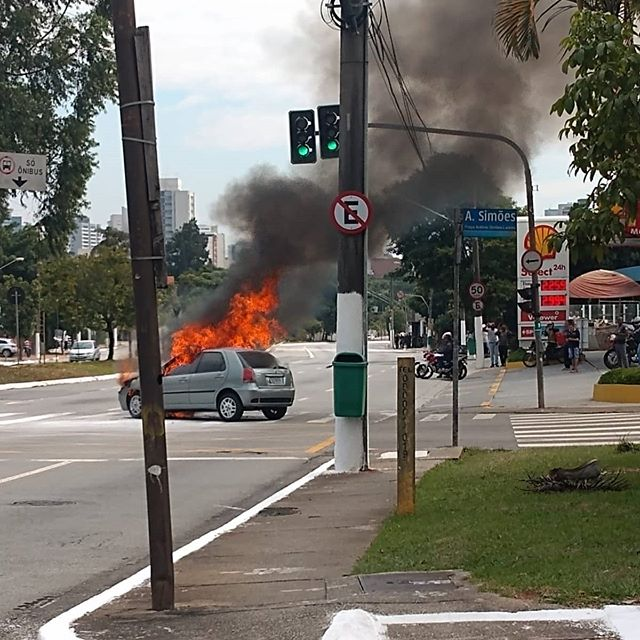car: (122, 353, 296, 413)
crosswalk: (511, 387, 640, 460)
fire: (117, 272, 299, 413)
grass: (450, 438, 640, 614)
sidewalk: (83, 433, 483, 640)
sign: (503, 198, 566, 345), (1, 142, 60, 204), (455, 202, 524, 237)
street: (1, 351, 407, 640)
tree: (1, 1, 97, 248), (22, 245, 156, 374)
